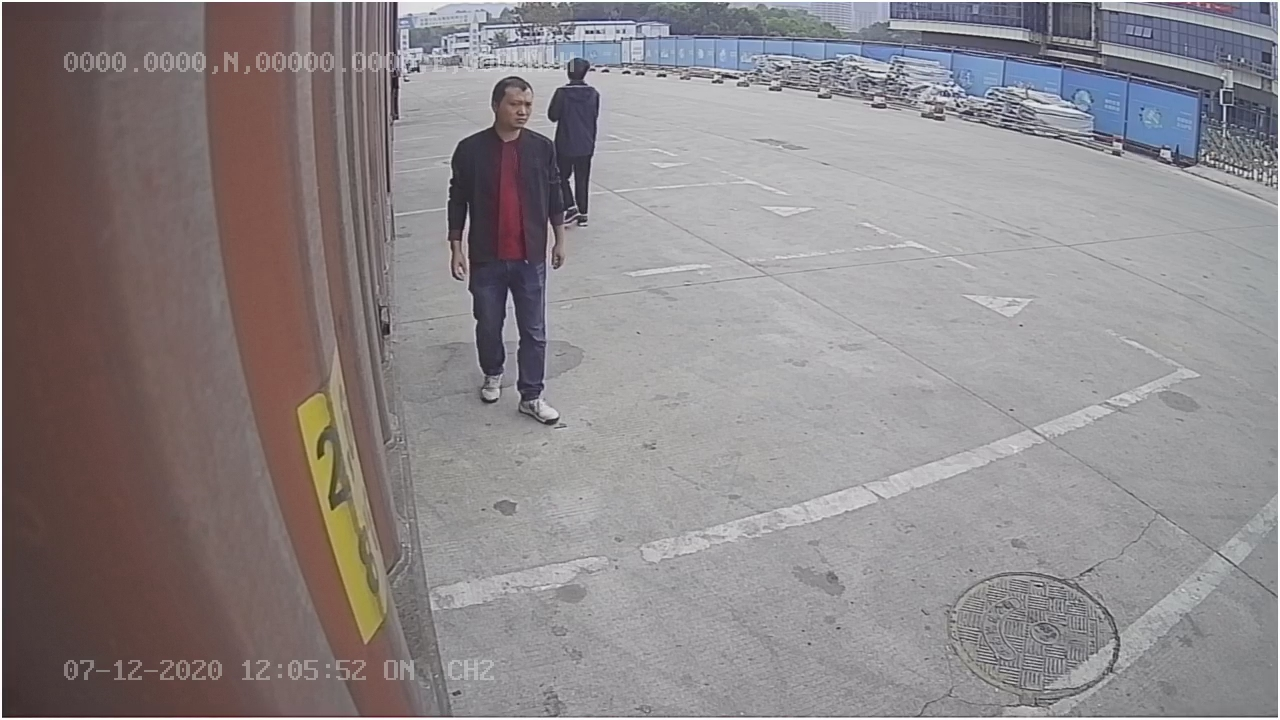person: (446, 77, 569, 422)
